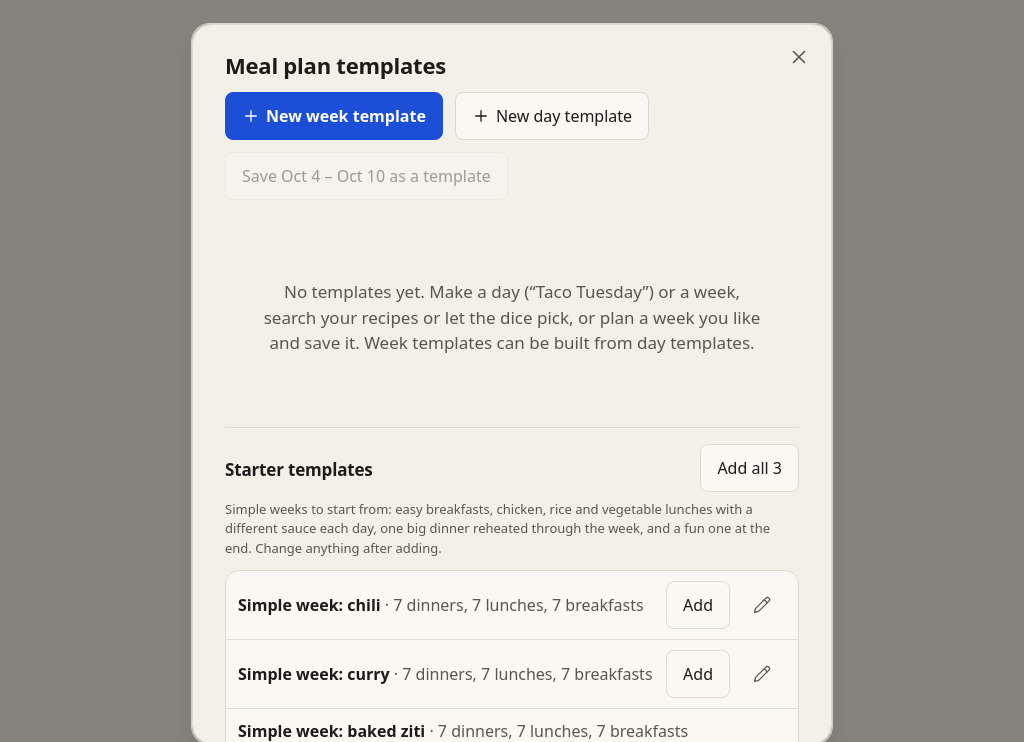
Test case: MealTemplates › makes a template from scratch: name, how many, which meals, typed or random dinners
The image size is (1024, 742).
Expected: the text "No templates yet" is shown, [264,280,760,354]
Expected: the button "Save Oct 4 – Oct 10 as a template" is disabled, [225,152,508,200]
Click the button "New week template".
click(334, 116)  # box [225,92,443,140]
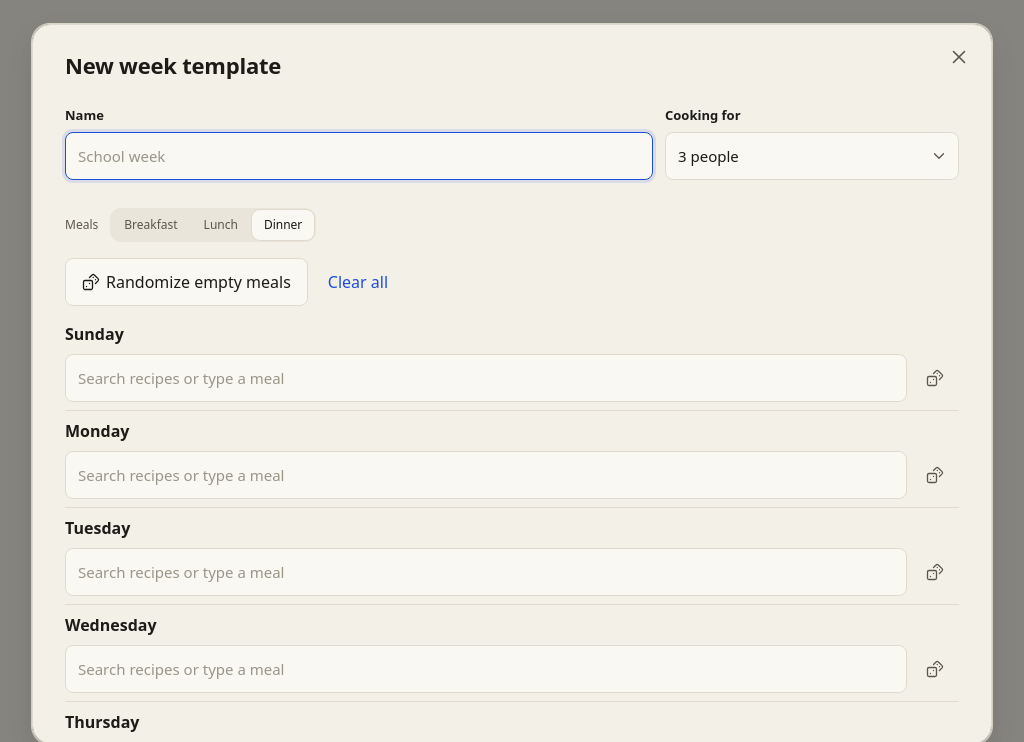
Type "Busy week" into the field labelled "Name".
click(359, 156); type("Busy week")  # box [65,132,653,180]
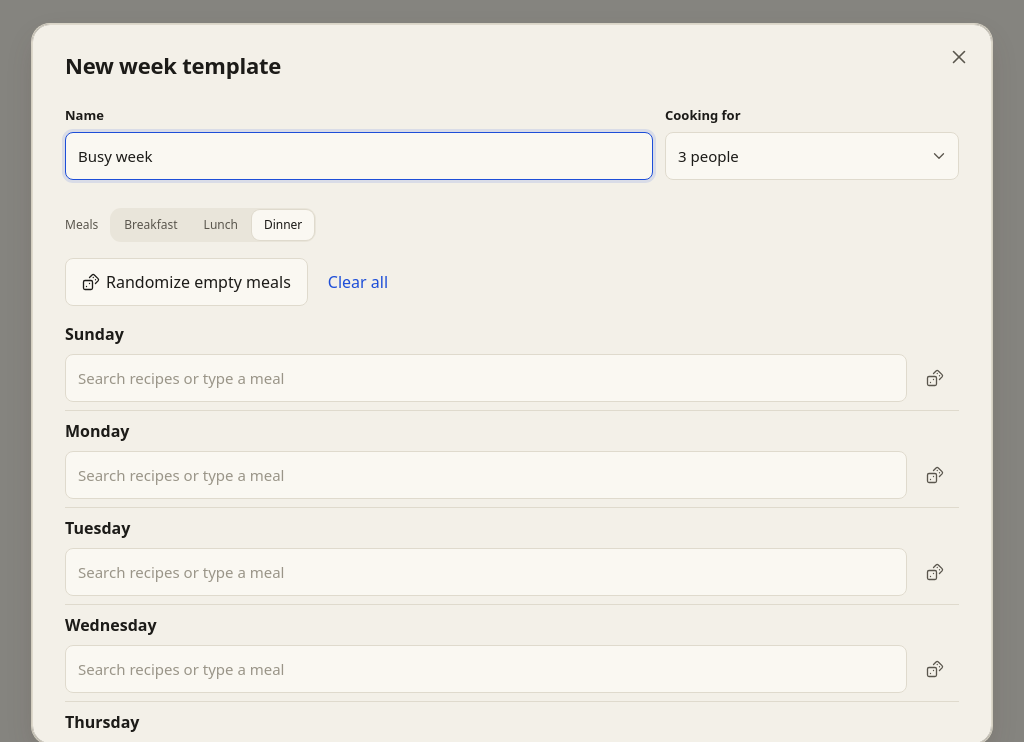
Type "Tacos" into the dropdown named "Monday dinner".
click(486, 475); type("Tacos")  # box [65,451,907,499]
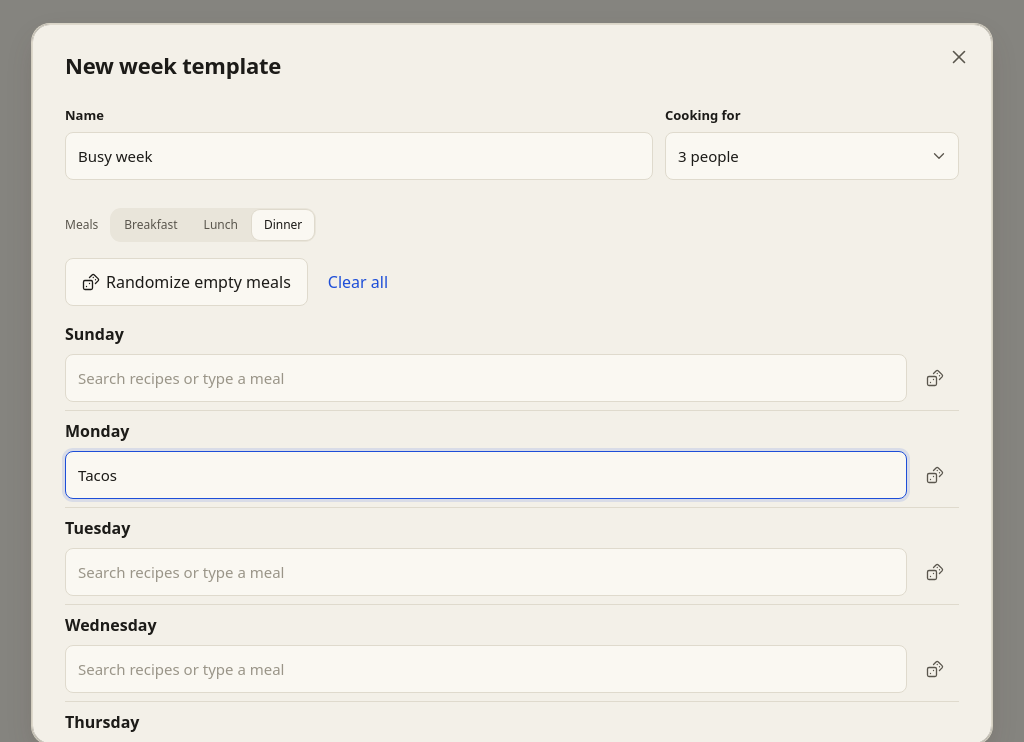
Click the button named "Randomize Tuesday dinner".
click(935, 572)  # box [911,548,959,596]
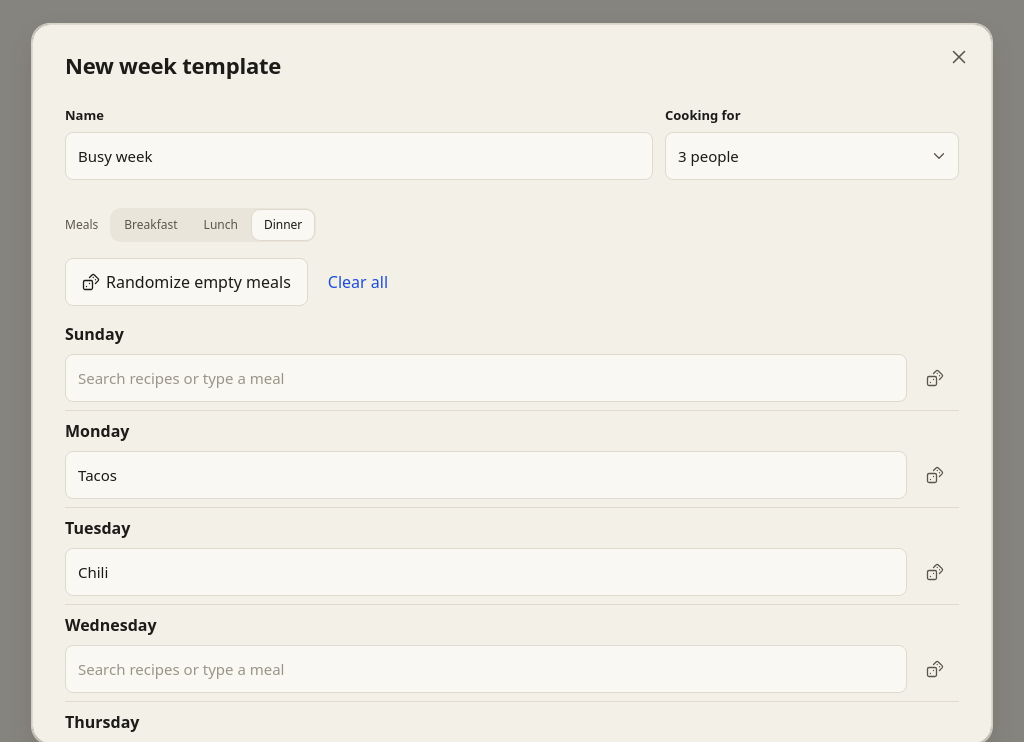
Expected: the dropdown named "Tuesday dinner" holds "Chili", [65,548,907,596]
Click the button "Randomize empty meals".
click(186, 282)  # box [65,258,308,306]
(page scrolled)
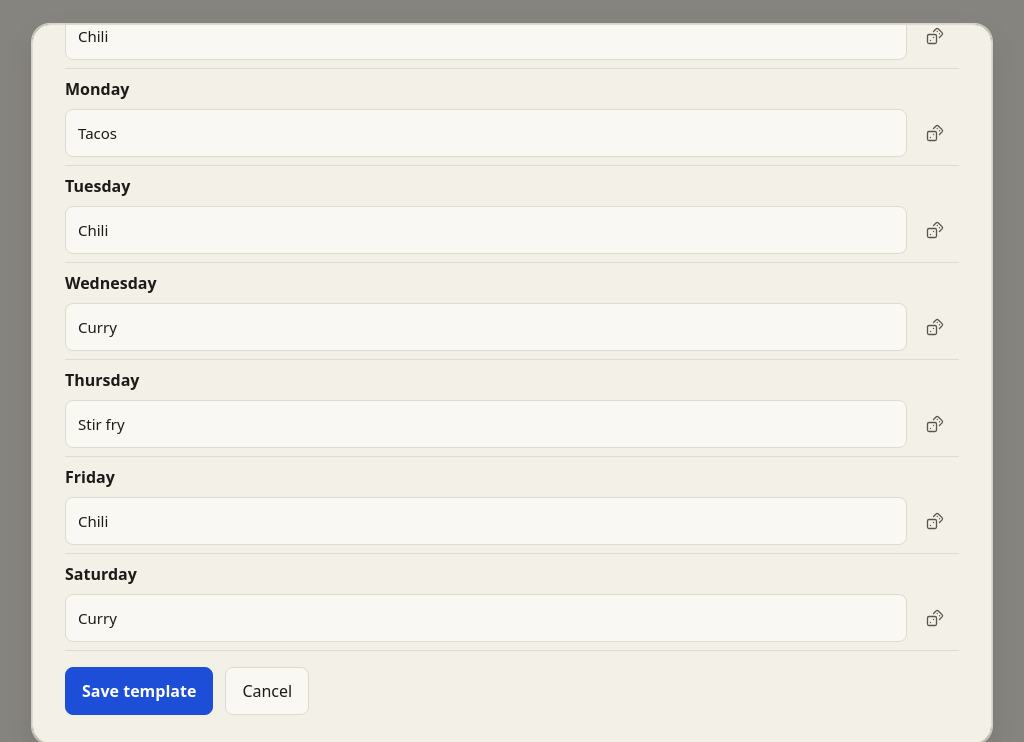
Click the button "Save template".
click(139, 691)  # box [65,667,213,715]
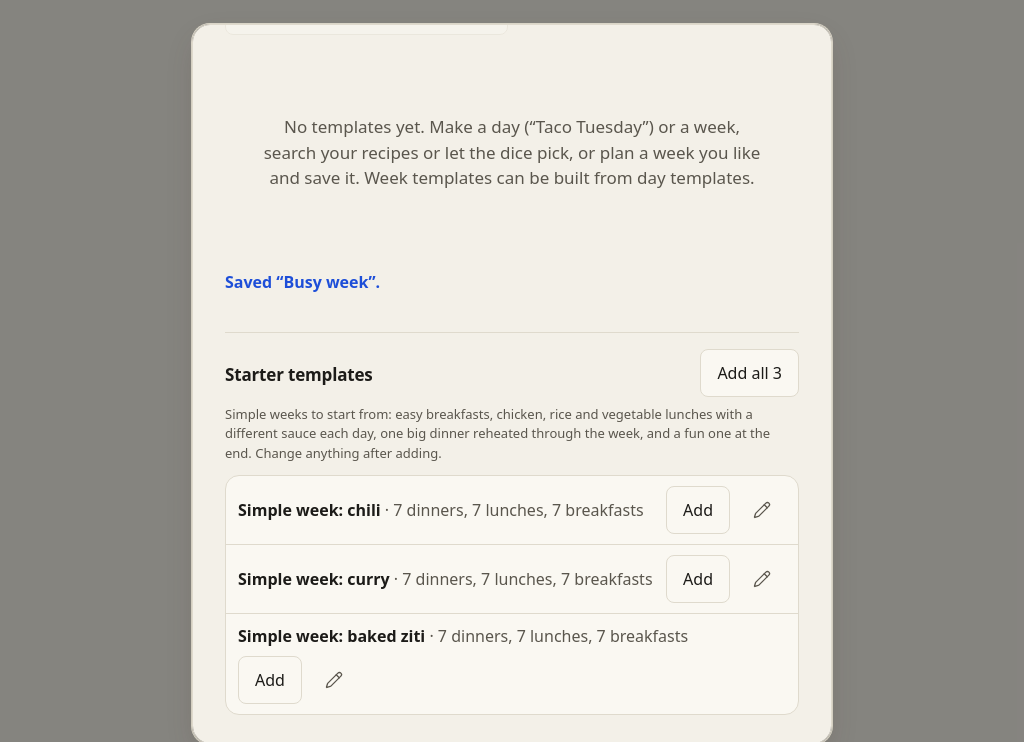
Expected: the message reads "Saved “Busy week”.", [225,271,380,293]
